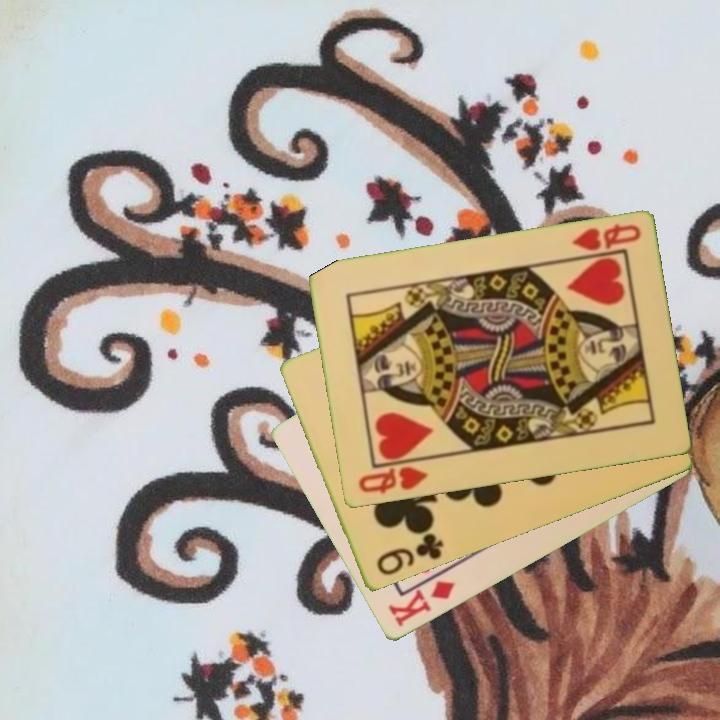9c: (373, 530, 447, 579)
Kd: (384, 577, 458, 631)
Qh: (354, 463, 431, 497), (568, 221, 644, 255)
